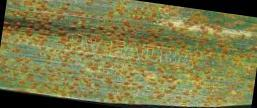Wheat: (51, 4, 146, 94), (198, 19, 252, 104), (149, 10, 195, 97), (10, 0, 49, 90)
